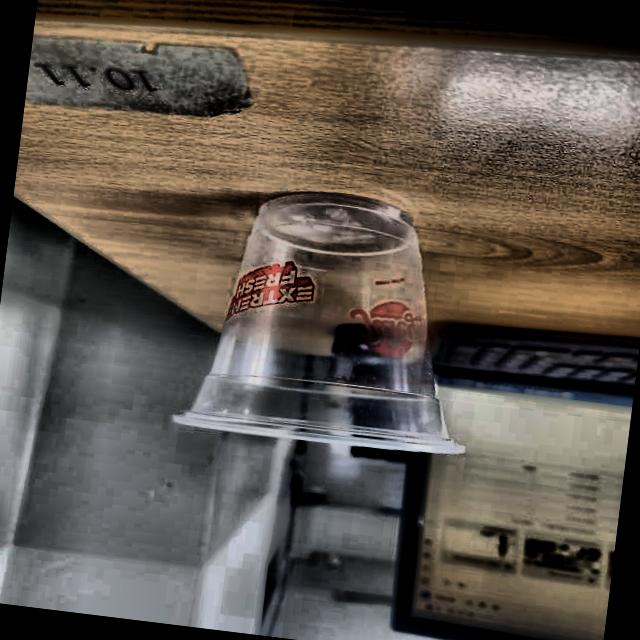plastic cup: (168, 177, 500, 462)
